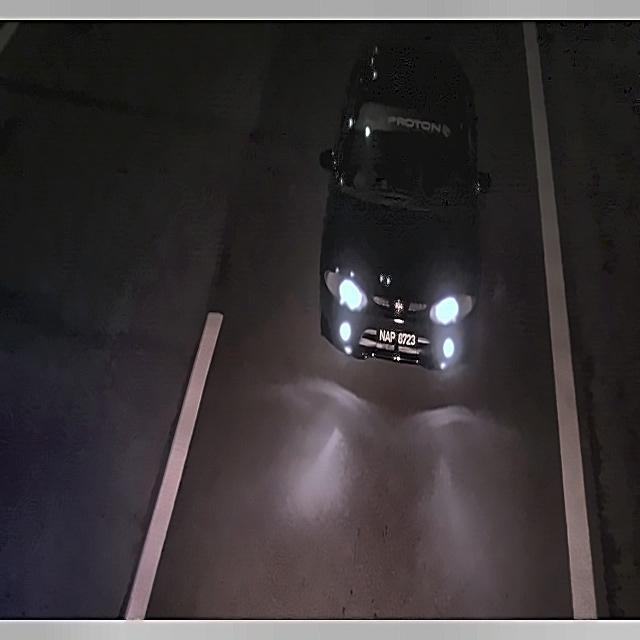car: (376, 321, 419, 356)
